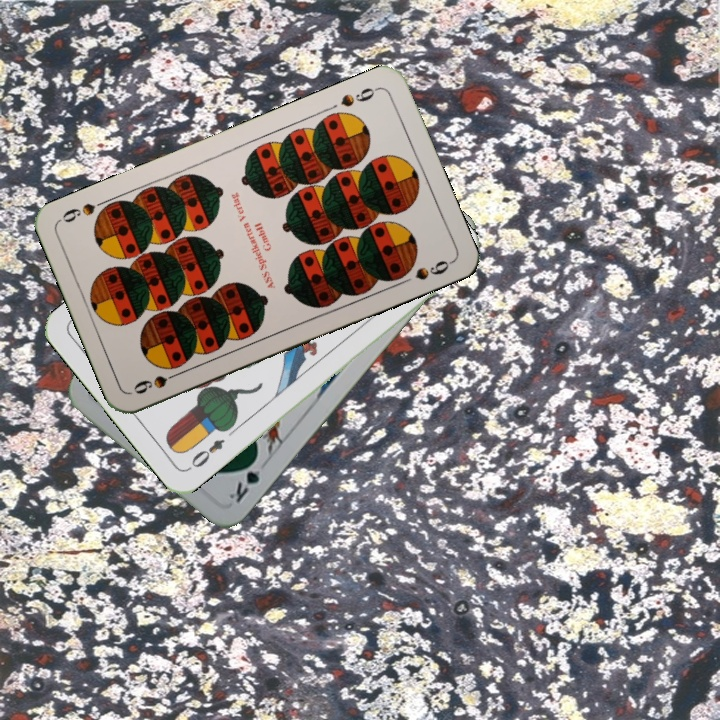EO: (187, 434, 228, 471)
GK: (225, 452, 264, 505)
S9: (129, 366, 186, 397), (336, 83, 382, 110)
